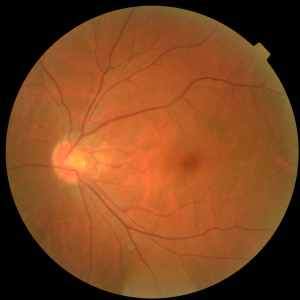healthy_eye: (29, 90, 238, 214)
